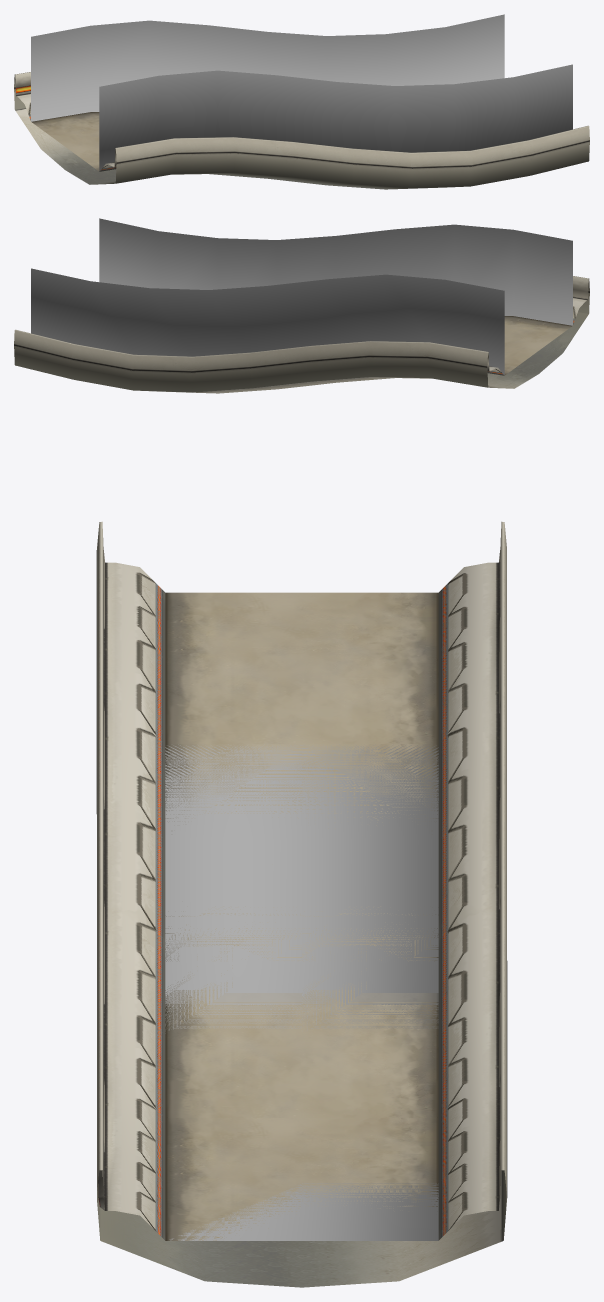
Rendered from road_ramp_short.fbx.
3 views of the same model, one above another, from view 1: azimuth 30°, elevation 25°; view 2: azimuth 150°, elevation 25°; view 3: azimuth 270°, elevation 25° (orthographic). The views are drawn at different scales.
Visible parts, largest first — view 1: colider_ramp_short, road_ramp_short; view 2: colider_ramp_short, road_ramp_short; view 3: road_ramp_short, colider_ramp_short.
Part boxes in pixels (x1,y1,x2,y2): colider_ramp_short: [31, 14, 572, 171]; road_ramp_short: [14, 72, 589, 189]; colider_ramp_short: [31, 218, 572, 375]; road_ramp_short: [14, 276, 589, 393]; road_ramp_short: [96, 521, 507, 1287]; colider_ramp_short: [165, 744, 438, 1240].
Size of the model in its own units: 64 by 26.05 by 24.02.
4 materials, 3 textured.
